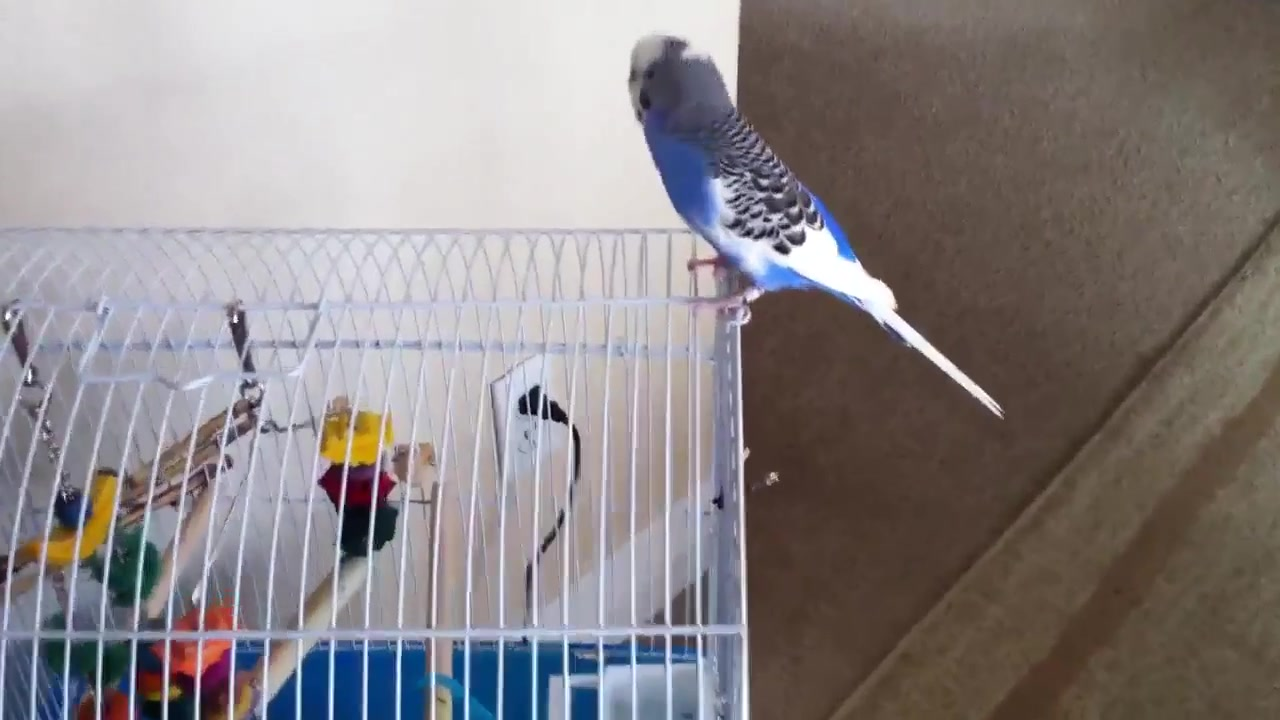bird: (629, 33, 1011, 424)
